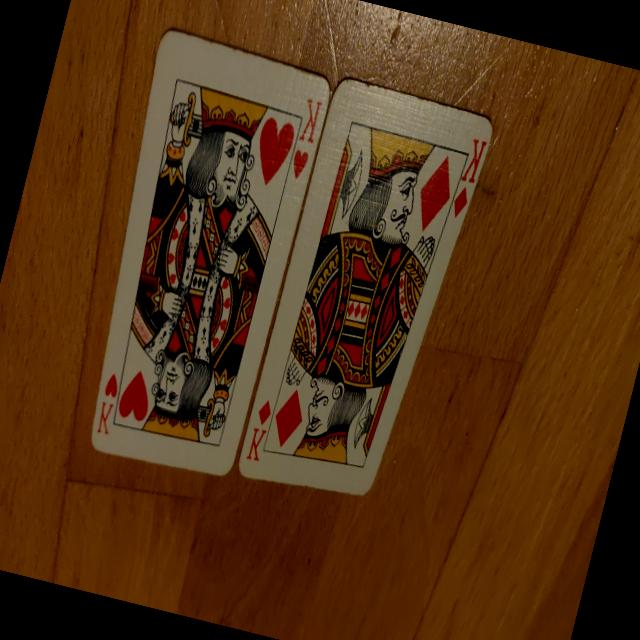Diamond: (411, 152, 458, 236), (268, 386, 309, 450), (450, 184, 470, 220), (255, 398, 273, 426)
Heart: (248, 116, 296, 189), (116, 367, 156, 422), (288, 149, 308, 181), (104, 372, 120, 398)
King: (461, 138, 486, 185), (298, 99, 322, 143), (246, 427, 266, 462), (95, 402, 115, 434)
